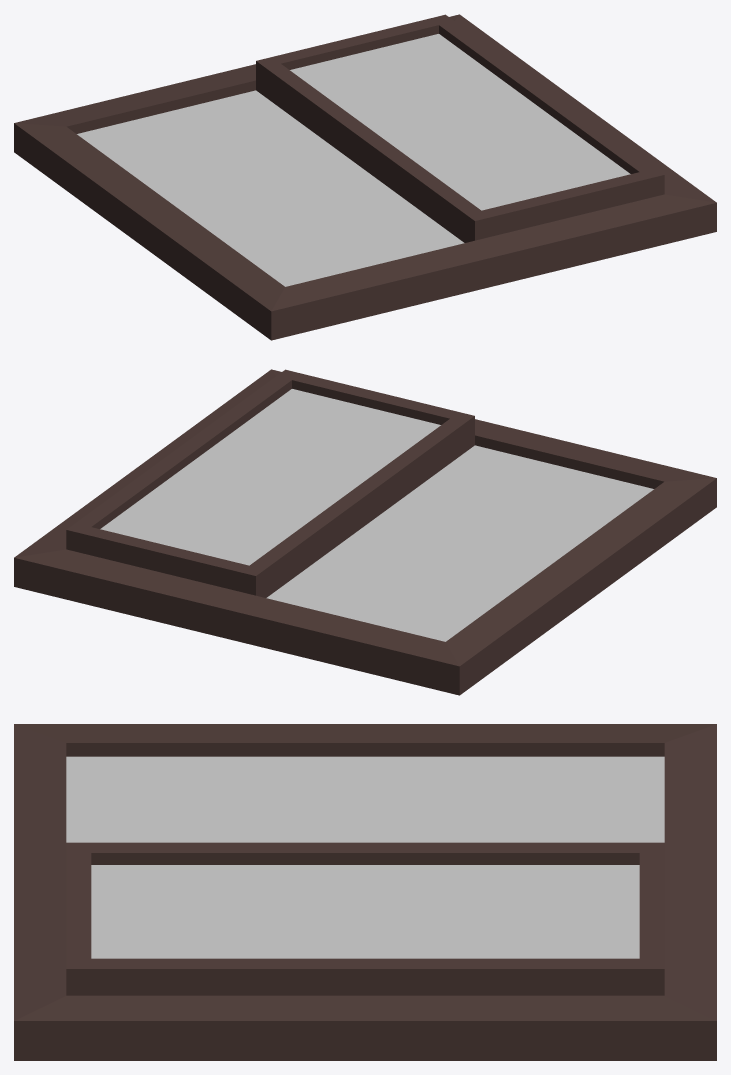
Rendered from Planter01.fbx.
The picture shows the model from 3 angles, top to bottom: view 1: azimuth 30°, elevation 25°; view 2: azimuth 150°, elevation 25°; view 3: azimuth 270°, elevation 25°; orthographic projection. The views are drawn at different scales.
Visible parts, largest first — view 1: Cube.035; view 2: Cube.035; view 3: Cube.035.
Part boxes in pixels (x1,y1,x2,y2): Cube.035: (14,14,716,340); Cube.035: (14,369,716,695); Cube.035: (14,724,716,1060).
Bounding box in the file's own units: 400 × 43.78 × 400.
